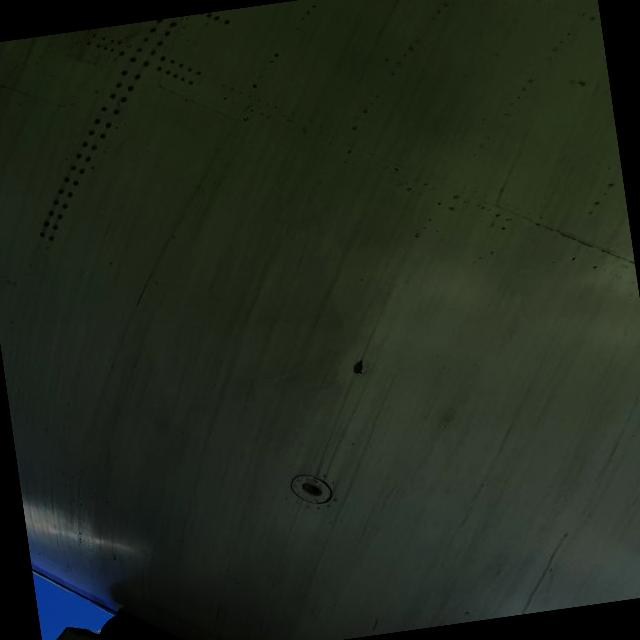crack: (123, 274, 165, 314), (346, 348, 382, 380)
